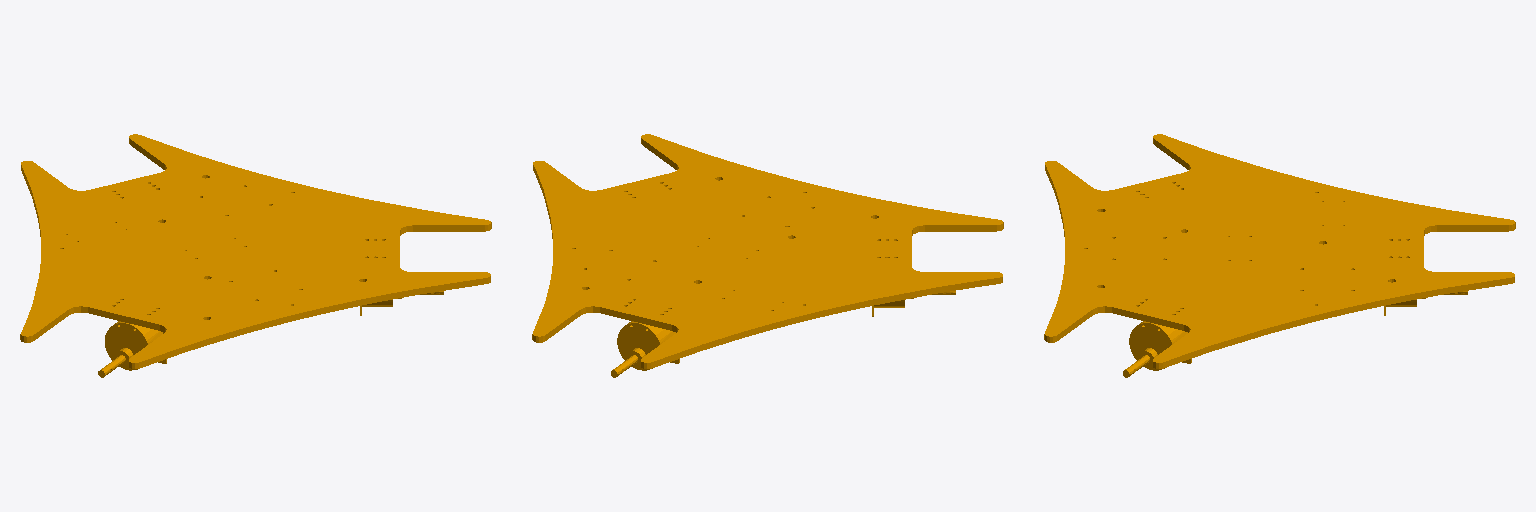
URDF robot description (hola_bot):
<?xml version="1.0" encoding="utf-8"?>
<!--First version of this URDF was automatically created by SolidWorks to URDF Exporter!
    as part of eYSIP 2022 
    Originally created by [author] ([email redacted]) 
    Commit Version: 1.6.0-4-g7f85cfe  Build Version: 1.6.7995.38578
    For more information, please see http://wiki.ros.org/sw_urdf_exporter 

    This version of the URDF is made after a lot of simplification by the e-Yantra Team ([author]) -->

<robot
  name="hola_bot">

  <!-- Chassis -->

  <link
    name="base_link">
    <inertial>
      <origin
        xyz="0 0 0"
        rpy="0 0 0" />
      <mass
        value="0.49" />
      <inertia
        ixx="0.00199"
        ixy="0"
        ixz="0"
        iyy="0.00199"
        iyz="0"
        izz="0.00395" />
    </inertial>
    <visual>
      <origin
        xyz="0 0 0"
        rpy="0 0 1.57" />
      <geometry>
        <mesh
          filename="package://task1/meshes/base_link.STL" />
      </geometry>
    </visual>
    <collision>
      <origin
        xyz="0 0 -0.01"
        rpy="0 0 1.57" />
      <geometry>
        <cylinder radius="0.15" length="0.005"/>
      </geometry>
    </collision>
  </link>

.
.
<!-- lot more stuff needs to go here -->
<!-- Front Wheel -->

  <!-- Front Wheel Link -->
  <link
    name="front_wheel">
    <inertial>
      <origin
        xyz="0 0 0"
        rpy="0 0 0" />
      <mass
        value="0.062" />
      <inertia
        ixx="0.000285"
        ixy="0"
        ixz="0"
        iyy="0.0005198"
        iyz="0"
        izz="0.0002851" />
    </inertial>
    <visual>
      <origin
        xyz="0 0 0"
        rpy="0 0 0" />
      <geometry>
        <mesh
          filename="package://task1/meshes/wheel.STL" />
      </geometry>
    </visual>
    <collision>
      <origin
        xyz="0 -.01 0"
        rpy="1.57 0 0" />
      <geometry>
        <cylinder radius=".03" length="0.02"/>
      </geometry>
    </collision>
  </link>

  <!-- Front Wheel Joint -->

  <joint
    name="front_joint"
    type="continuous">
    <origin
      xyz="0 0.17483 -0.0335"
      rpy="0 0 0" />
    <parent
      link="base_link" />
    <child
      link="front_wheel" />
    <axis
      xyz="0 -1 0" />
    <limit
      effort="5"
      velocity="5" />
  </joint>

  <!-- left Wheel -->

  <!-- left Wheel Link -->
  <link
    name="left_wheel">
    <inertial>
      <origin
        xyz="0 0 0"
        rpy="0 0 0" />
      <mass
        value="0.062" />
      <inertia
        ixx="0.000285"
        ixy="0"
        ixz="0"
        iyy="0.0005198"
        iyz="0"
        izz="0.0002851" />
    </inertial>
    <visual>
      <origin
        xyz="0 0 0"
        rpy="0 0 0" />
      <geometry>
        <mesh
          filename="package://task1/meshes/wheel.STL" />
      </geometry>
    </visual>
    <collision>
      <origin
        xyz="0 -.01 0"
        rpy="1.57 0 0" />
      <geometry>
        <cylinder radius=".03" length="0.02"/>
      </geometry>
    </collision>
  </link>

  <!-- Front Wheel Joint -->

  <joint
    name="left_joint"
    type="continuous">
    <origin
      xyz="-0.15154 -0.087275  -0.0335"
      rpy="0 0 2.0944" />
    <parent
      link="base_link" />
    <child
      link="left_wheel" />
    <axis
      xyz="0 -1 0" />
    <limit
      effort="5"
      velocity="5" />
  </joint>

<!-- right Wheel -->

  <!-- right Wheel Link -->
  <link
    name="right_wheel">
    <inertial>
      <origin
        xyz="0 0 0"
        rpy="0 0 0" />
      <mass
        value="0.062" />
      <inertia
        ixx="0.000285"
        ixy="0"
        ixz="0"
        iyy="0.0005198"
        iyz="0"
        izz="0.0002851" />
    </inertial>
    <visual>
      <origin
        xyz="0 0 0"
        rpy="0 0 0" />
      <geometry>
        <mesh
          filename="package://task1/meshes/wheel.STL" />
      </geometry>
    </visual>
    <collision>
      <origin
        xyz="0 -.01 0"
        rpy="1.57 0 0" />
      <geometry>
        <cylinder radius=".03" length="0.02"/>
      </geometry>
    </collision>
  </link>

  <!-- Front Wheel Joint -->

  <joint
    name="right_joint"
    type="continuous">
    <origin
      xyz="0.15154 -0.087275  -0.0335"
      rpy="0 0 1.0472" />
    <parent
      link="base_link" />
    <child
      link="right_wheel" />
    <axis
      xyz="0 -1 0" />
    <limit
      effort="5"
      velocity="5" />
  </joint>

      <gazebo>
    <plugin name="object_controller" filename="libgazebo_ros_planar_move.so">
      <commandTopic>cmd_vel</commandTopic>
      <odometryTopic>odom</odometryTopic>
      <odometryFrame>odom</odometryFrame>
      <odometryRate>20.0</odometryRate>
      <robotBaseFrame>base_link</robotBaseFrame>
    </plugin>
  </gazebo>
.
.
</robot>

--- Render facts (derived) ---
3 views of the same robot in one strip: view 1: azimuth 30°, elevation 25°; view 2: azimuth 150°, elevation 25°; view 3: azimuth 270°, elevation 25° (orthographic).
Robot: hola_bot — 4 links, 3 joints (3 continuous); root link base_link; default pose: all joints at 0.
Links seen in each view (by area): view 1: base_link; view 2: base_link; view 3: base_link.
Link boxes in pixels (<box>): base_link: <box>20,134,491,377</box>; base_link: <box>532,134,1003,377</box>; base_link: <box>1044,134,1515,377</box>.
Bounding box of the posed robot: 0.3908 × 0.34 × 0.045 m (x, y, z).
1 mesh visuals loaded from 2 distinct referenced files (1 binary STL); not drawn: 3 (reference not matched to a file when rendering).